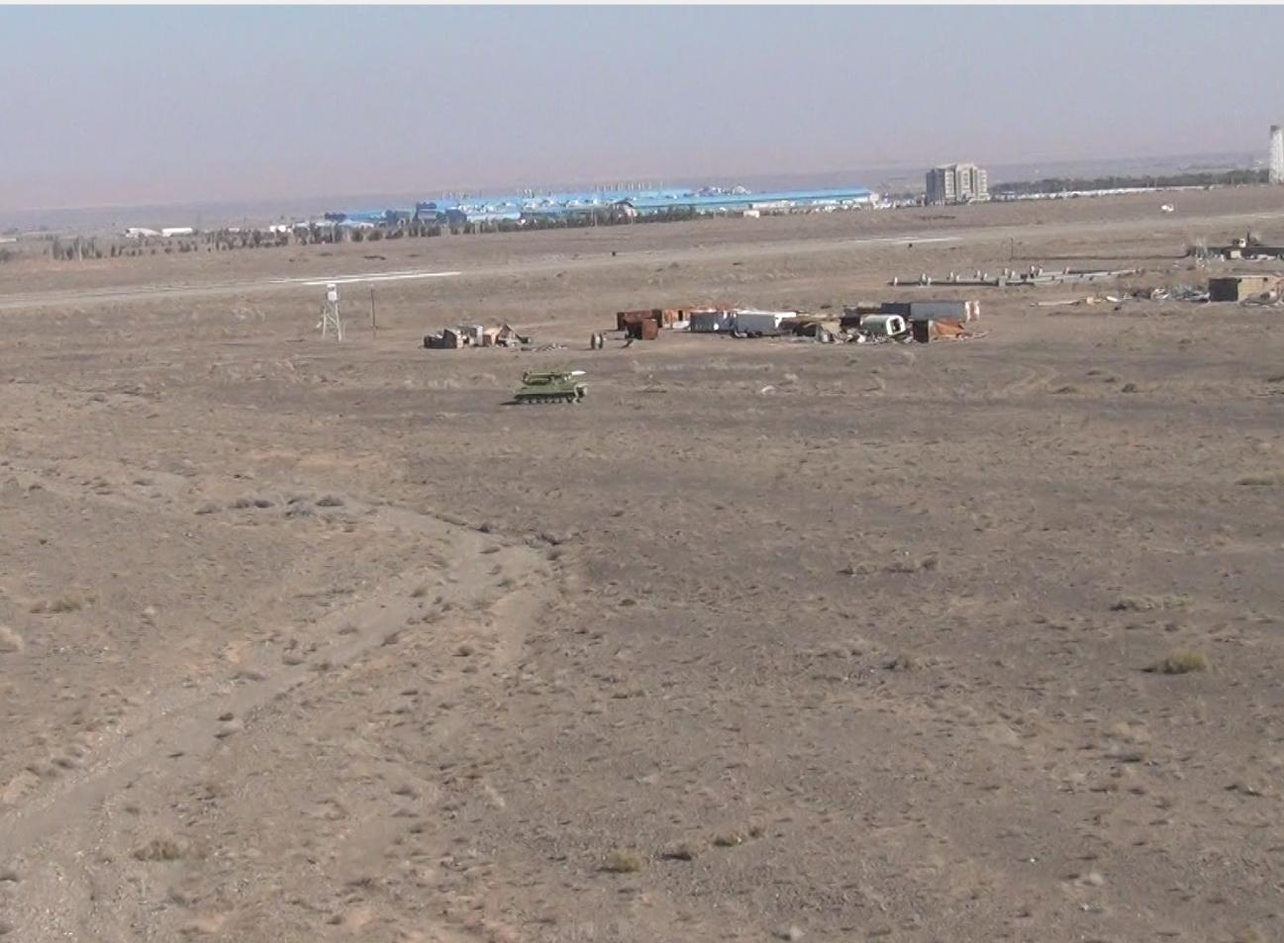armored_car: (512, 365, 593, 406)
